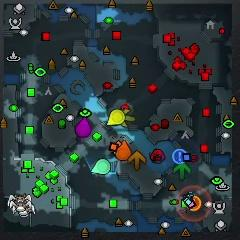Other: (172, 148, 187, 165), (188, 195, 202, 212)
p2: (92, 158, 111, 176)
p3: (75, 115, 92, 138)
p4: (105, 108, 125, 126)
p5: (115, 139, 132, 162)
x2: (122, 108, 136, 127)
x4: (173, 164, 191, 180)
x5: (129, 151, 146, 169)
